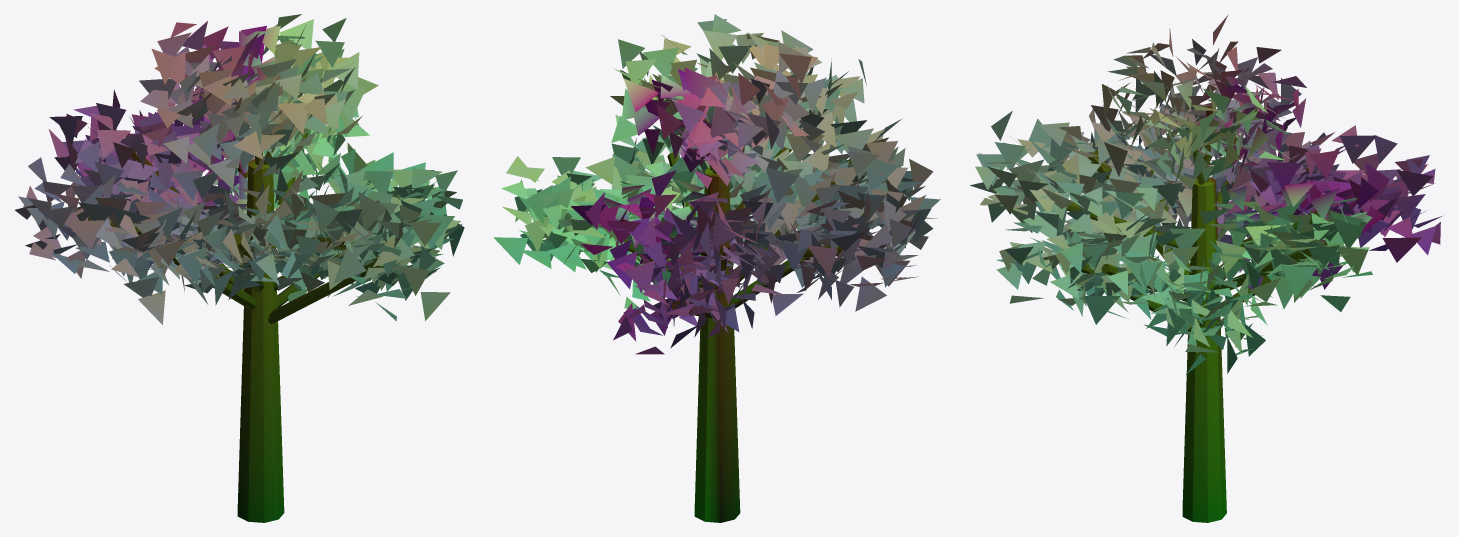
File: mature_broadleaf_01.glb
3 views of the same model, side by side, from view 1: azimuth 30°, elevation 25°; view 2: azimuth 150°, elevation 25°; view 3: azimuth 270°, elevation 25° (orthographic). The views are drawn at different scales.
Visible parts, largest first — view 1: mature_broadleaf_01; view 2: mature_broadleaf_01; view 3: mature_broadleaf_01.
Boxes of the visible parts, bbox=[...] form: mature_broadleaf_01: bbox=[15, 14, 464, 522]; mature_broadleaf_01: bbox=[493, 14, 940, 522]; mature_broadleaf_01: bbox=[969, 14, 1442, 522].
Bounding box in the file's own units: 11.65 × 12.93 × 12.25.
